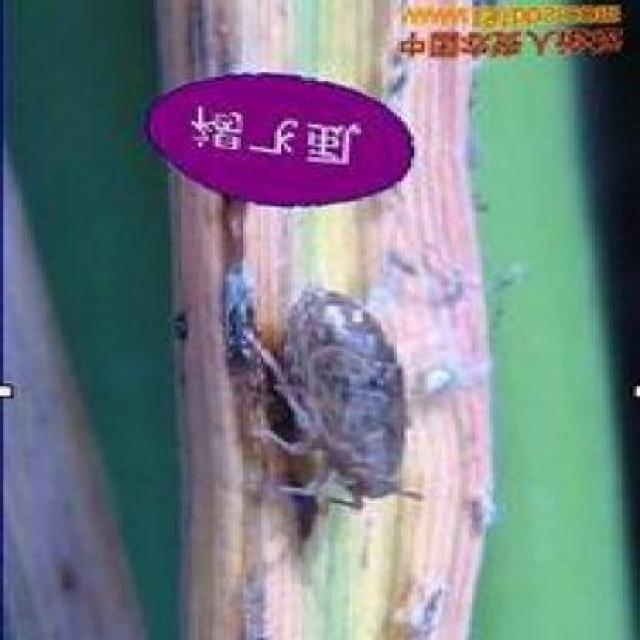brown-planthopper: (260, 277, 423, 508)
